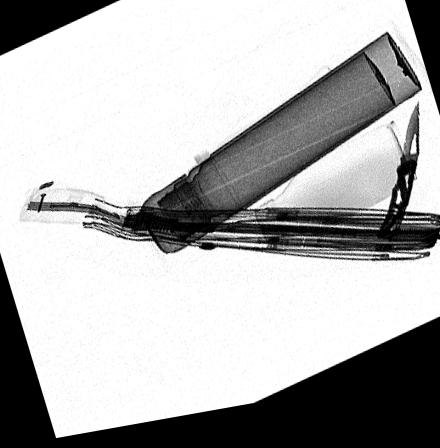Knife: (377, 113, 419, 254)
